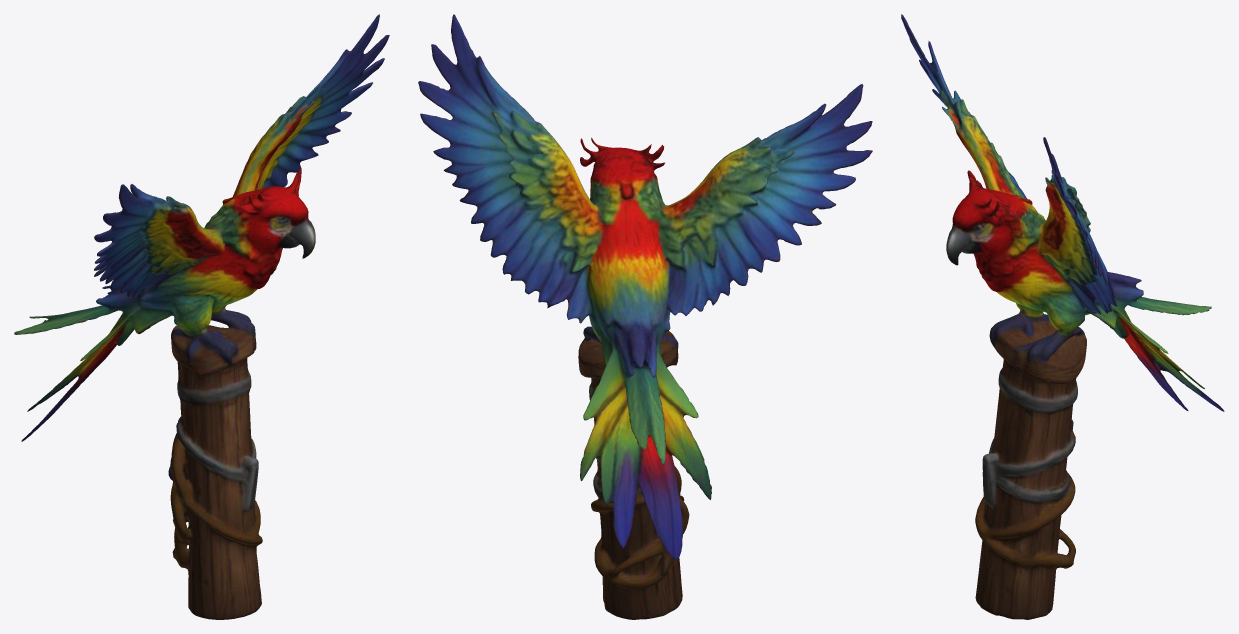
Rendered from barnacle_perch.glb.
3 views of the same model, side by side, from view 1: azimuth 30°, elevation 25°; view 2: azimuth 150°, elevation 25°; view 3: azimuth 270°, elevation 25° (orthographic). The views are drawn at different scales.
Bounding box in the file's own units: 0.58 × 0.8238 × 0.4358.
1 material, 1 textured.
